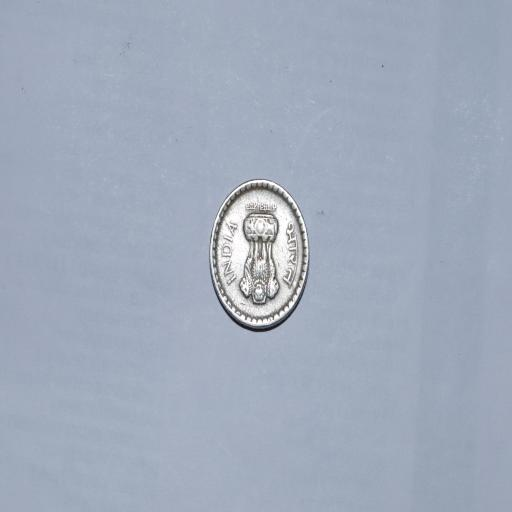rupee5: (206, 177, 313, 334)
